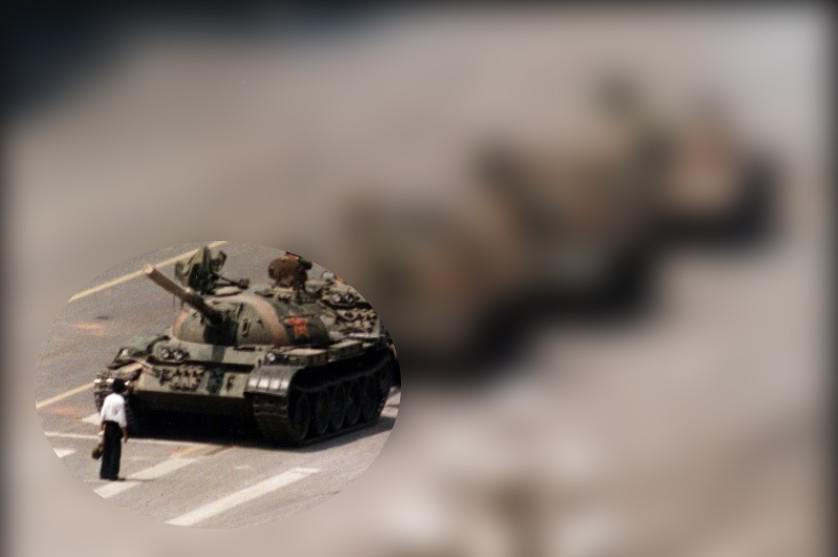tank: (90, 243, 402, 447)
